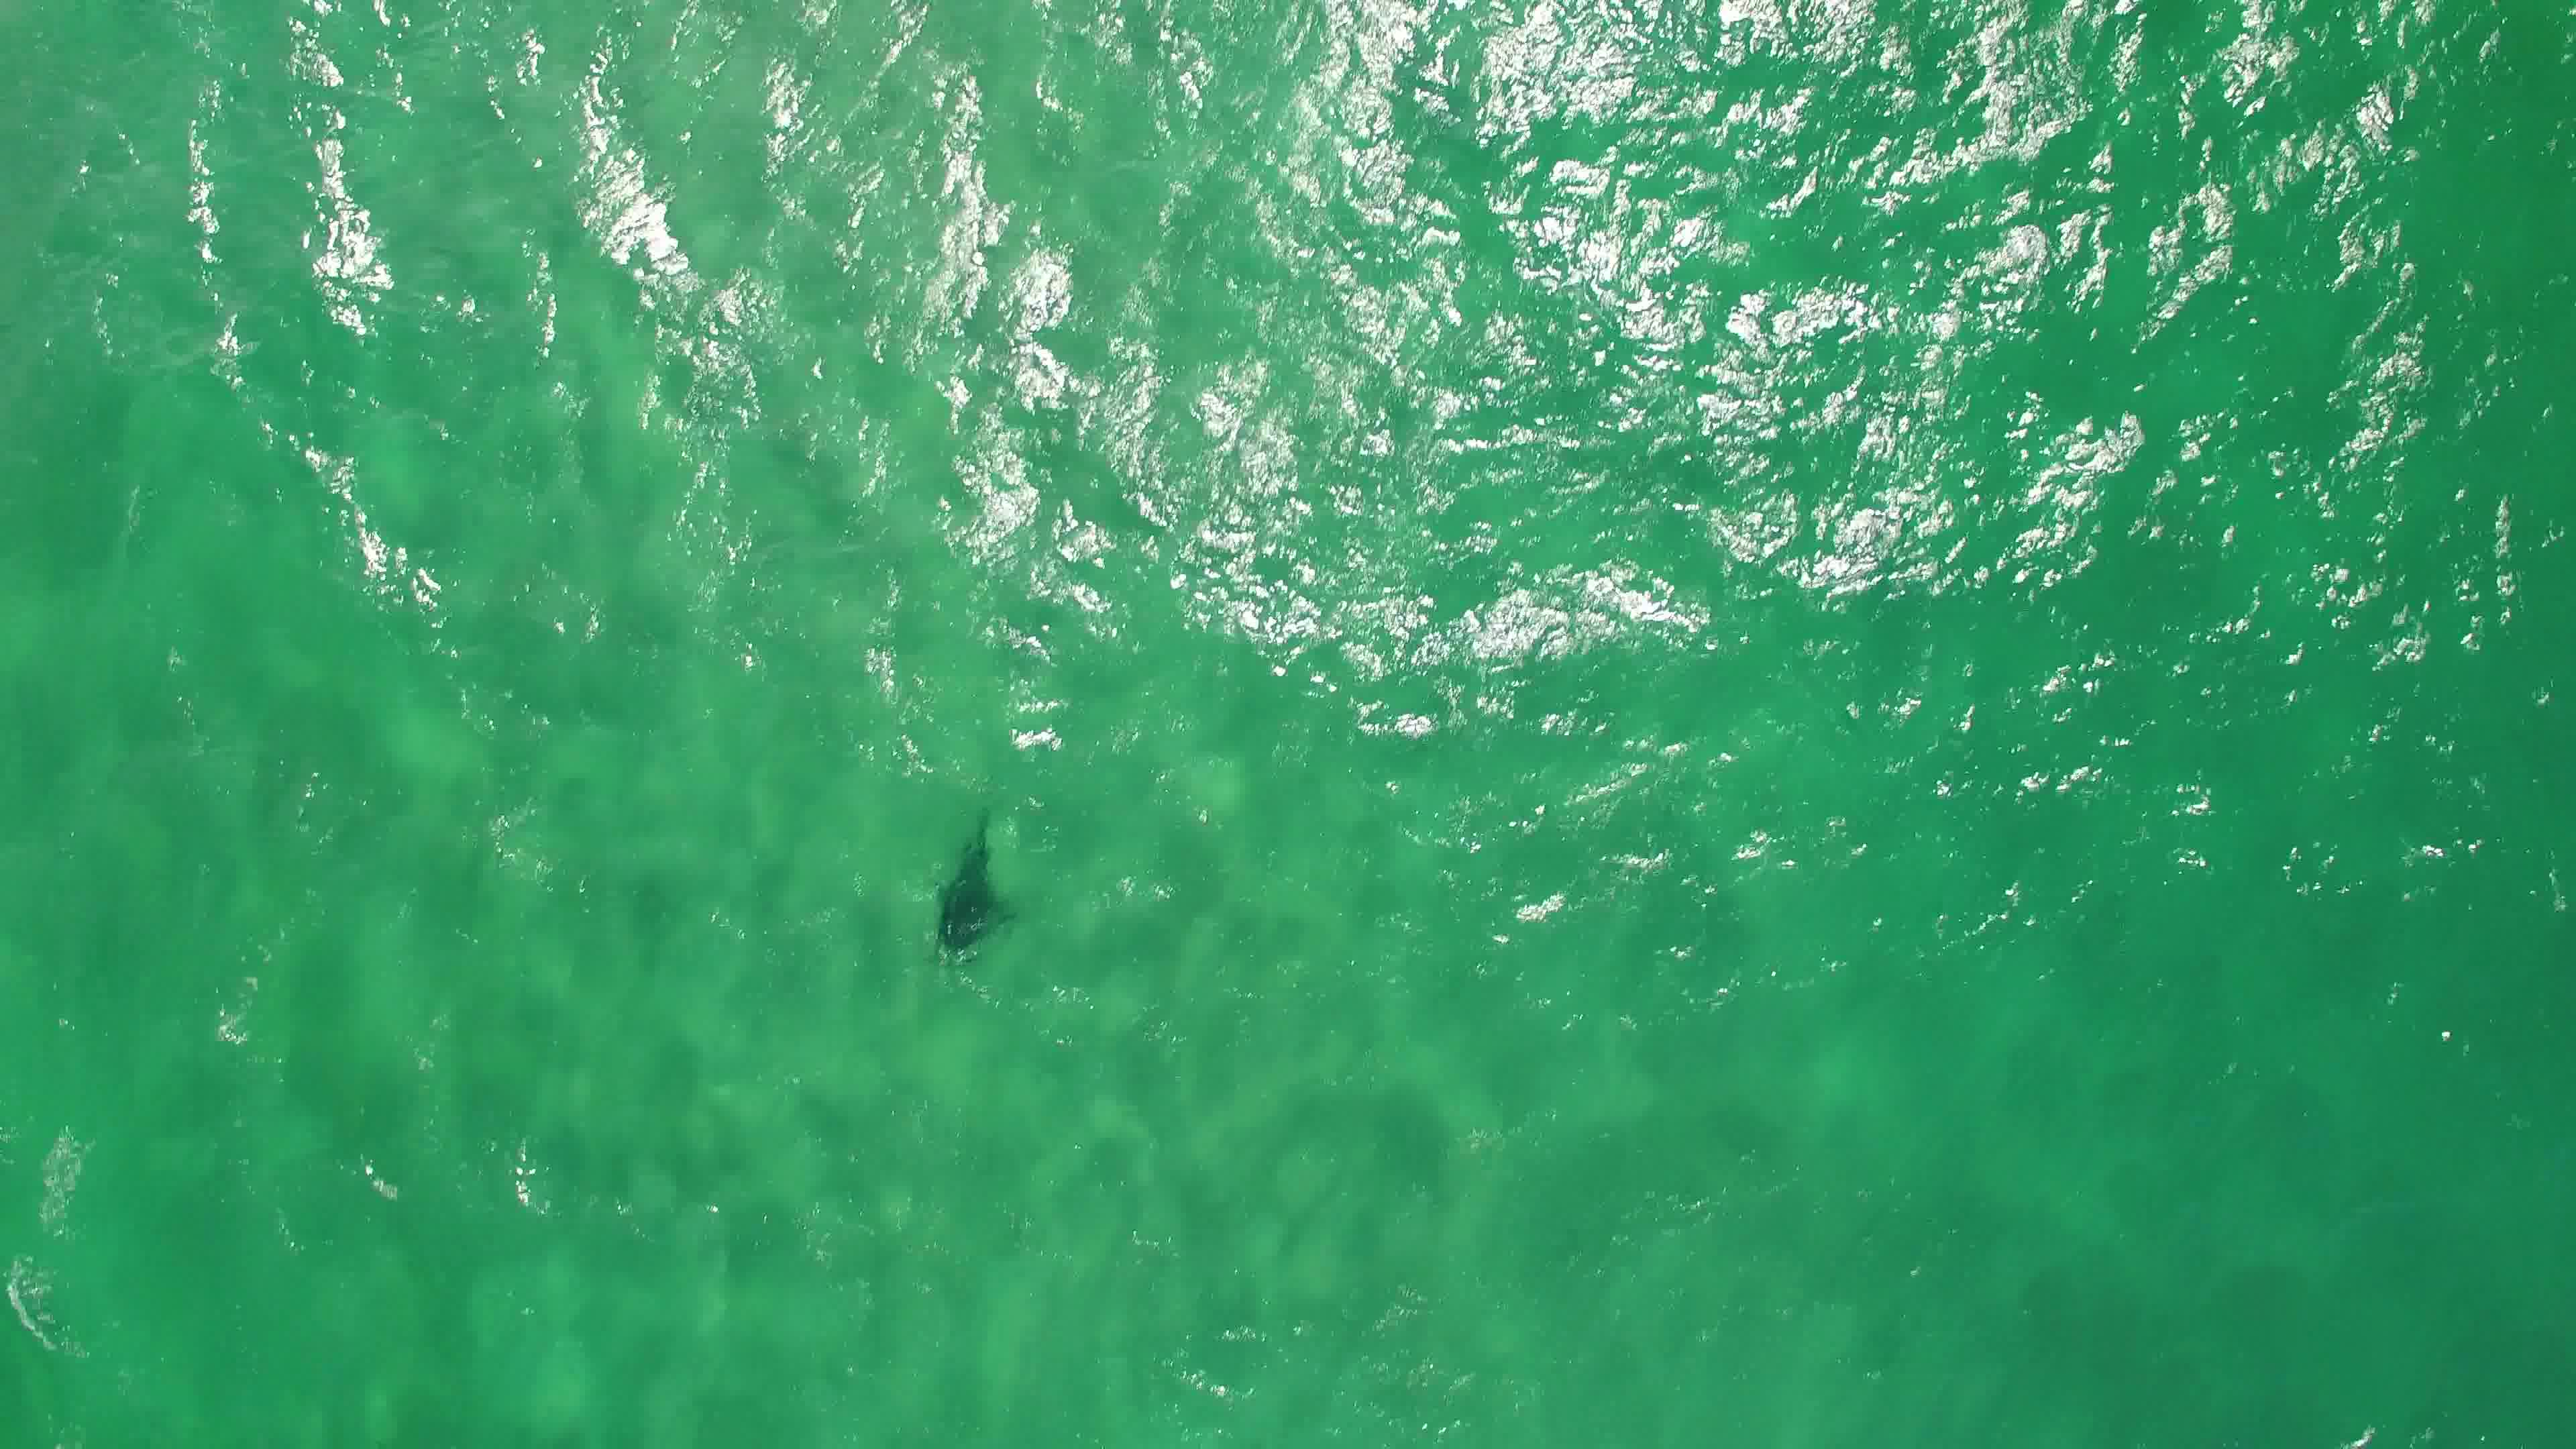shark: (924, 805, 1016, 966)
